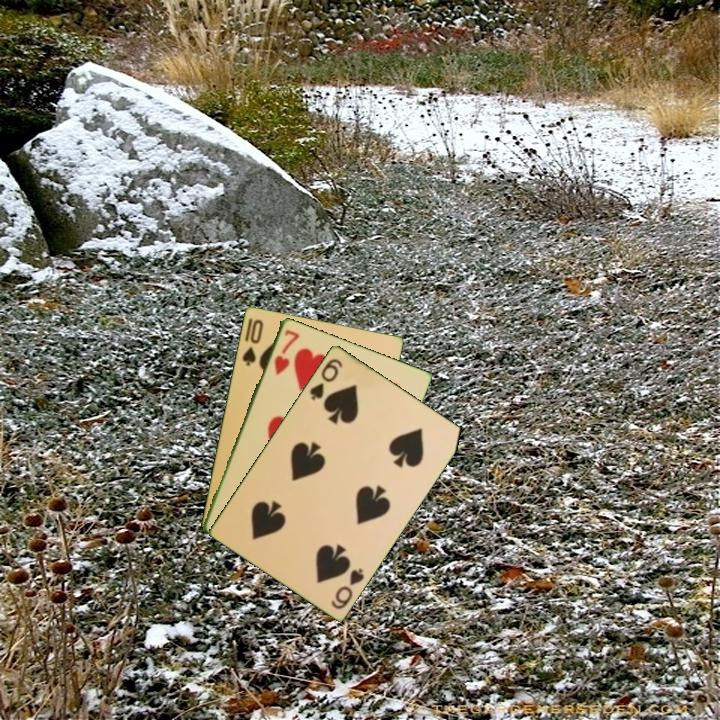10s: (239, 315, 266, 368)
6s: (306, 355, 345, 403), (328, 564, 367, 612)
7h: (270, 326, 302, 378)
